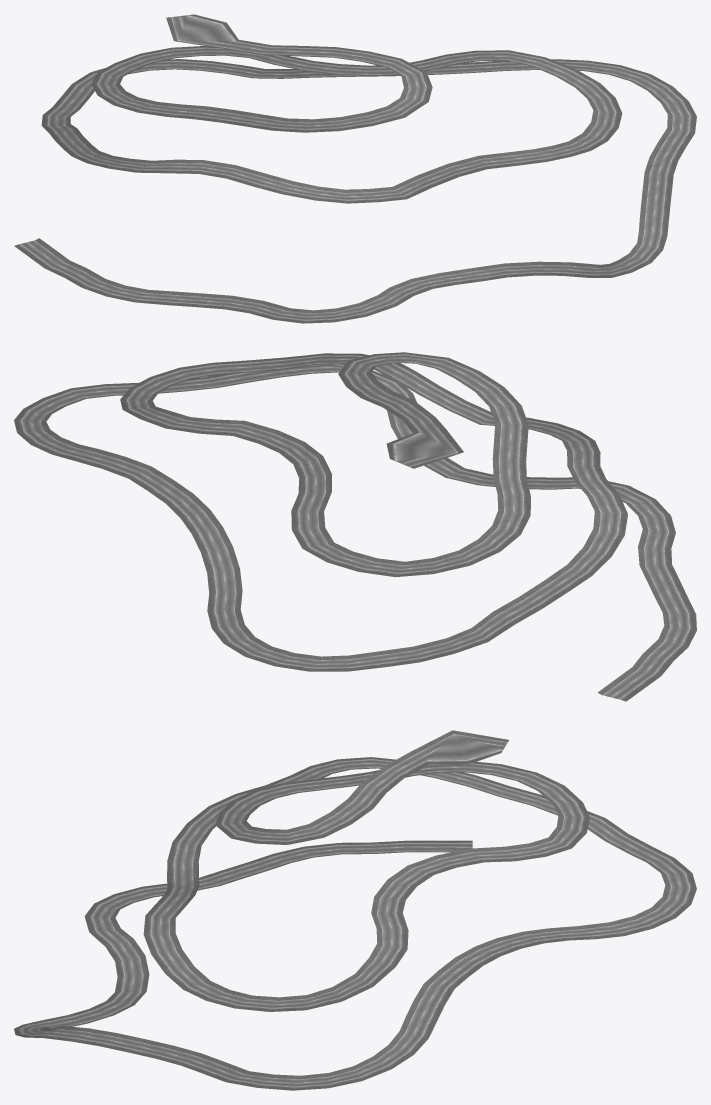
File: road.obj
The picture shows the model from 3 angles, top to bottom: view 1: azimuth 30°, elevation 25°; view 2: azimuth 150°, elevation 25°; view 3: azimuth 270°, elevation 25°; orthographic projection. The views are drawn at different scales.
Parts seen in each view (by area): view 1: road; view 2: road; view 3: road.
Boxes of the visible parts, x1=… form: road: x1=14, y1=14, x2=696, y2=323; road: x1=14, y1=352, x2=696, y2=701; road: x1=14, y1=730, x2=696, y2=1090.
Bounding box in the file's own units: 224 × 63.04 × 204.
1 material, 1 textured.
